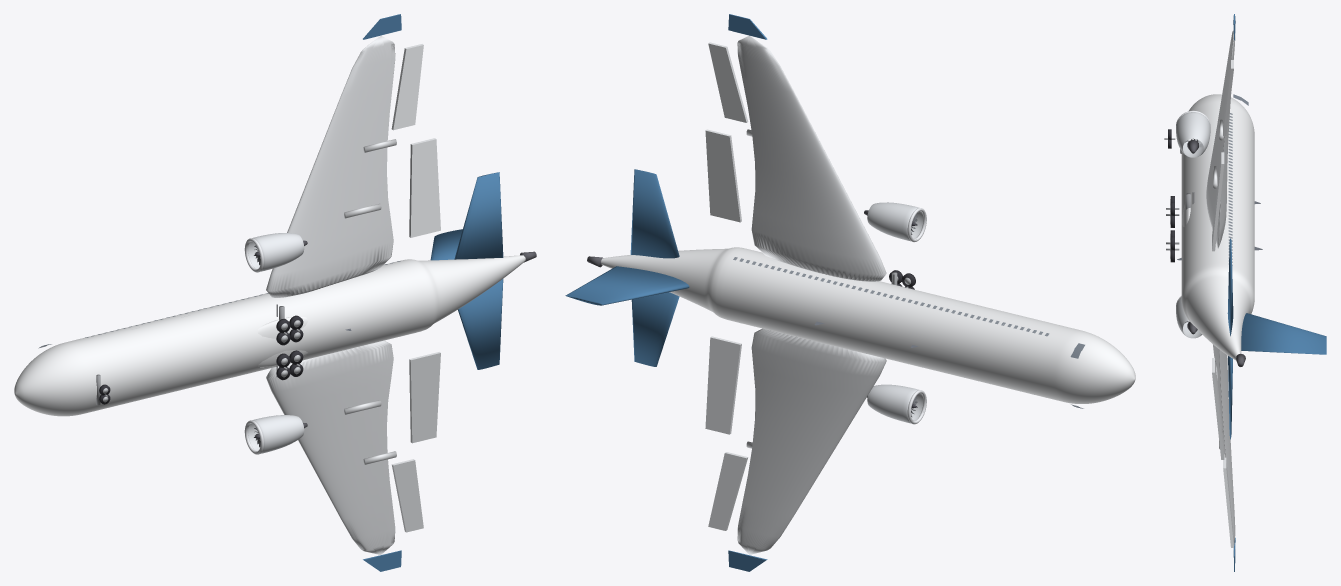
3 views of the same model, side by side, from view 1: azimuth 30°, elevation 25°; view 2: azimuth 150°, elevation 25°; view 3: azimuth 270°, elevation 25° (orthographic).
Visible parts, largest first — view 1: Fuselage, Wing_R, Wing_L, HStab_R, Flap_R, HStab_L, Flap_L, Aileron_R, Aileron_L, Nacelle_-1_0, Nacelle_1_0, Fin (+1 smaller); view 2: Fuselage, Wing_L, Wing_R, HStab_R, Fin, Flap_L, Flap_R, HStab_L, Aileron_L, Aileron_R, Nacelle_1_0, Nacelle_-1_0; view 3: Fuselage, Fin, Wing_R, Wing_L, Nacelle_1_0, Flap_L, Flap_R, HStab_R, Aileron_L, Nacelle_-1_0, Aileron_R, Windows_1_70 (+1 smaller).
Boxes of the visible parts, x1,y1,x2,y2 form: Fuselage: (14,255,525,416); Wing_R: (266,36,395,297); Wing_L: (266,340,395,554); HStab_R: (454,172,503,259); Flap_R: (409,138,440,237); HStab_L: (458,279,503,369); Flap_L: (409,352,440,443); Aileron_R: (391,44,423,130); Aileron_L: (391,459,423,532); Nacelle_-1_0: (248,415,304,453); Nacelle_1_0: (248,233,304,271); Fin: (430,229,462,260); Fuselage: (601,247,1135,403); Wing_L: (737,328,886,554); Wing_R: (737,35,886,281); HStab_R: (630,169,679,258); Fin: (565,266,689,305); Flap_L: (705,336,741,434); Flap_R: (705,129,741,222); HStab_L: (631,292,679,366); Aileron_L: (708,452,748,530); Aileron_R: (708,42,748,122); Nacelle_1_0: (867,202,923,241); Nacelle_-1_0: (867,384,923,423); Fuselage: (1181,94,1254,360); Fin: (1241,313,1326,354); Wing_R: (1206,30,1235,248); Wing_L: (1213,344,1235,545); Nacelle_1_0: (1176,112,1210,157); Flap_L: (1212,358,1224,459); Flap_R: (1212,152,1224,251); HStab_R: (1227,238,1233,336); Aileron_L: (1223,457,1233,547); Nacelle_-1_0: (1176,297,1202,338); Aileron_R: (1223,60,1233,135); Windows_1_70: (1228,113,1232,265).
Bounding box in the file's own units: 47.08 × 46.61 × 12.51.
